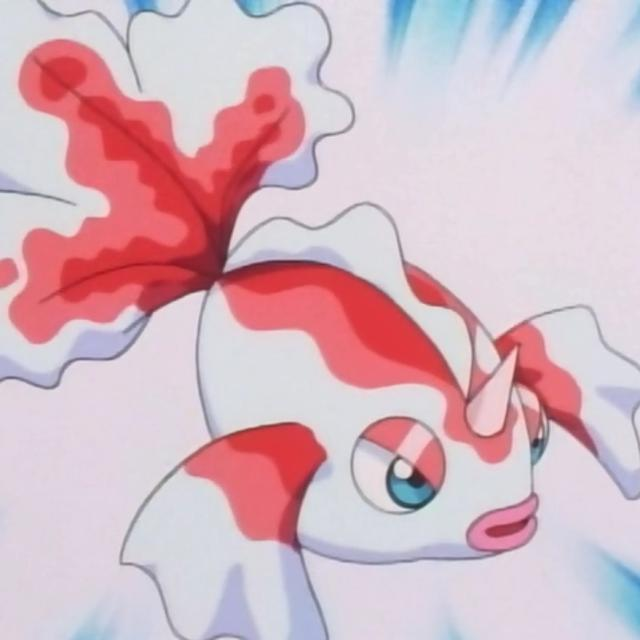Goldeen: (53, 179, 548, 572)
